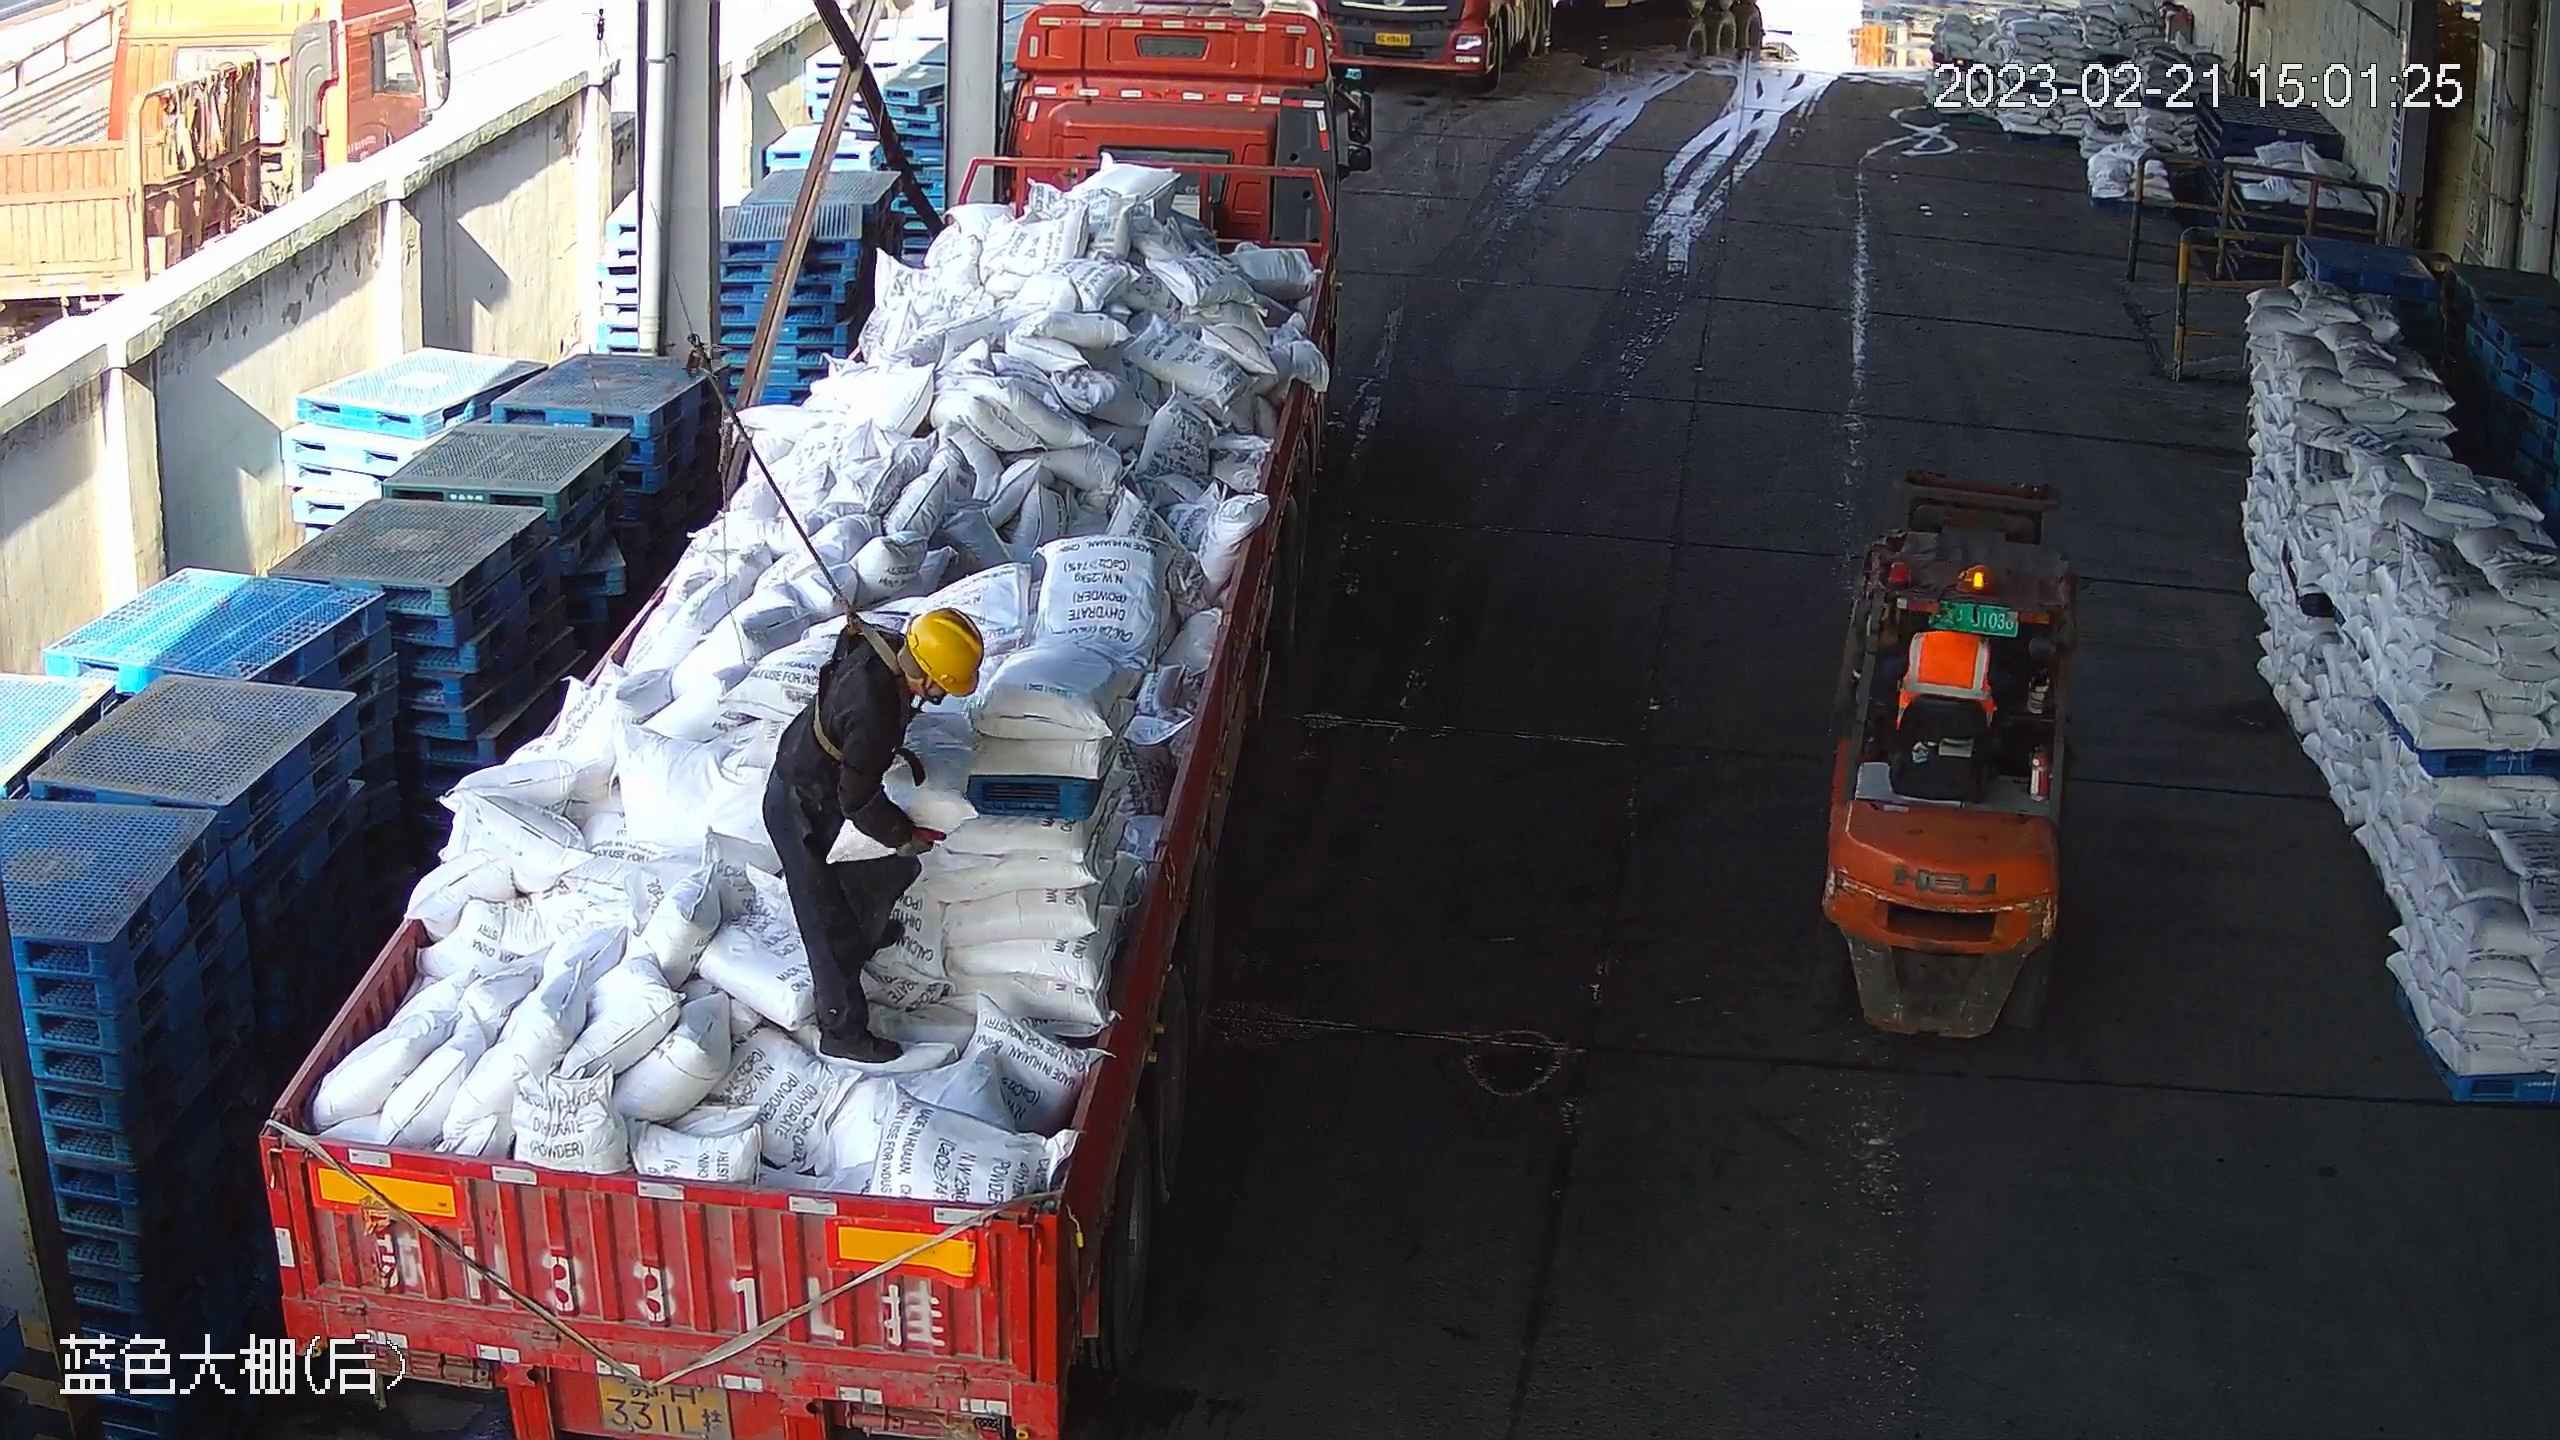belt: (811, 607, 909, 761)
head: (821, 608, 987, 738)
helmet: (906, 608, 985, 700)
people: (763, 607, 986, 1065)
truck: (256, 3, 1378, 1440), (1313, 1, 1555, 94)
